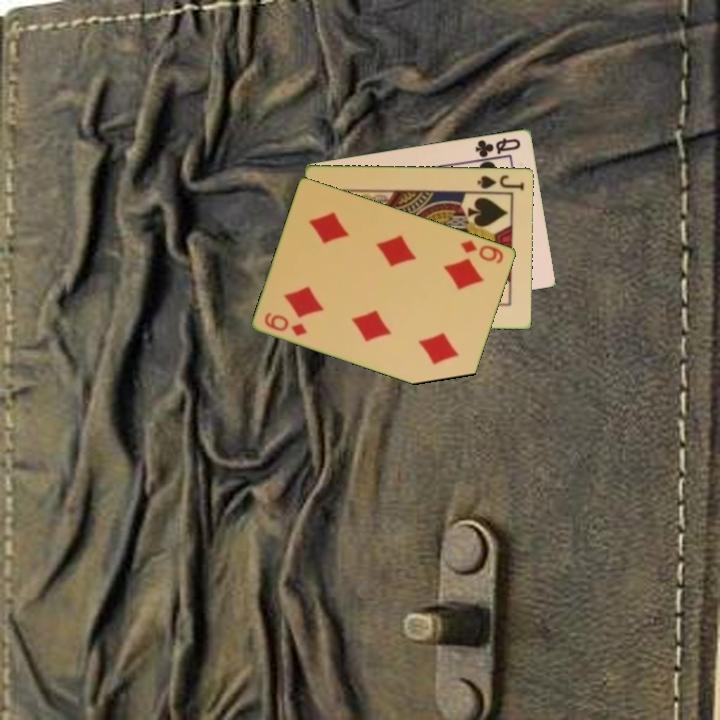6d: (457, 236, 507, 266), (261, 309, 310, 339)
Js: (474, 171, 527, 193)
Qc: (472, 134, 524, 160)
